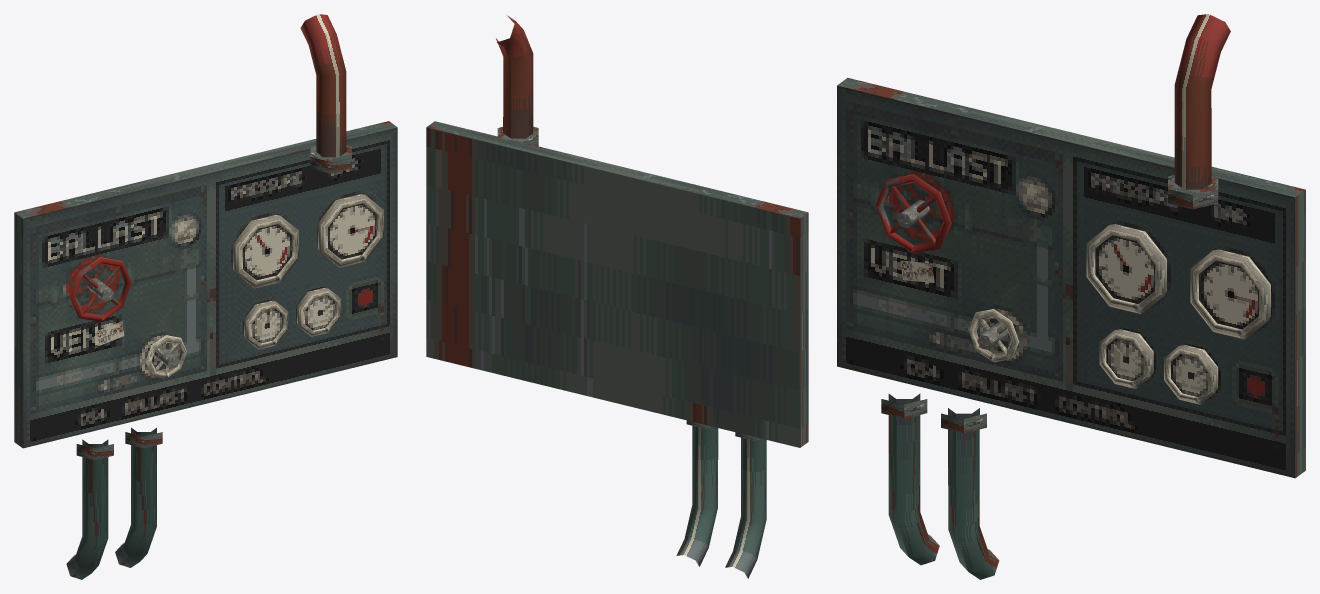
Rendered from gauge_panel.glb.
The picture shows the model from 3 angles, left to right: view 1: azimuth 30°, elevation 25°; view 2: azimuth 150°, elevation 25°; view 3: azimuth 330°, elevation 25°; orthographic projection. The views are drawn at different scales.
Visible parts, largest first — view 1: gauge_panel; view 2: gauge_panel; view 3: gauge_panel.
Boxes of the visible parts, x1,y1,x2,y2 form: gauge_panel: [14, 14, 397, 579]; gauge_panel: [426, 14, 808, 578]; gauge_panel: [837, 14, 1305, 579].
Size of the model in its own units: 1 by 1.3 by 0.1486.
Materials: 1 (1 with a texture image).
